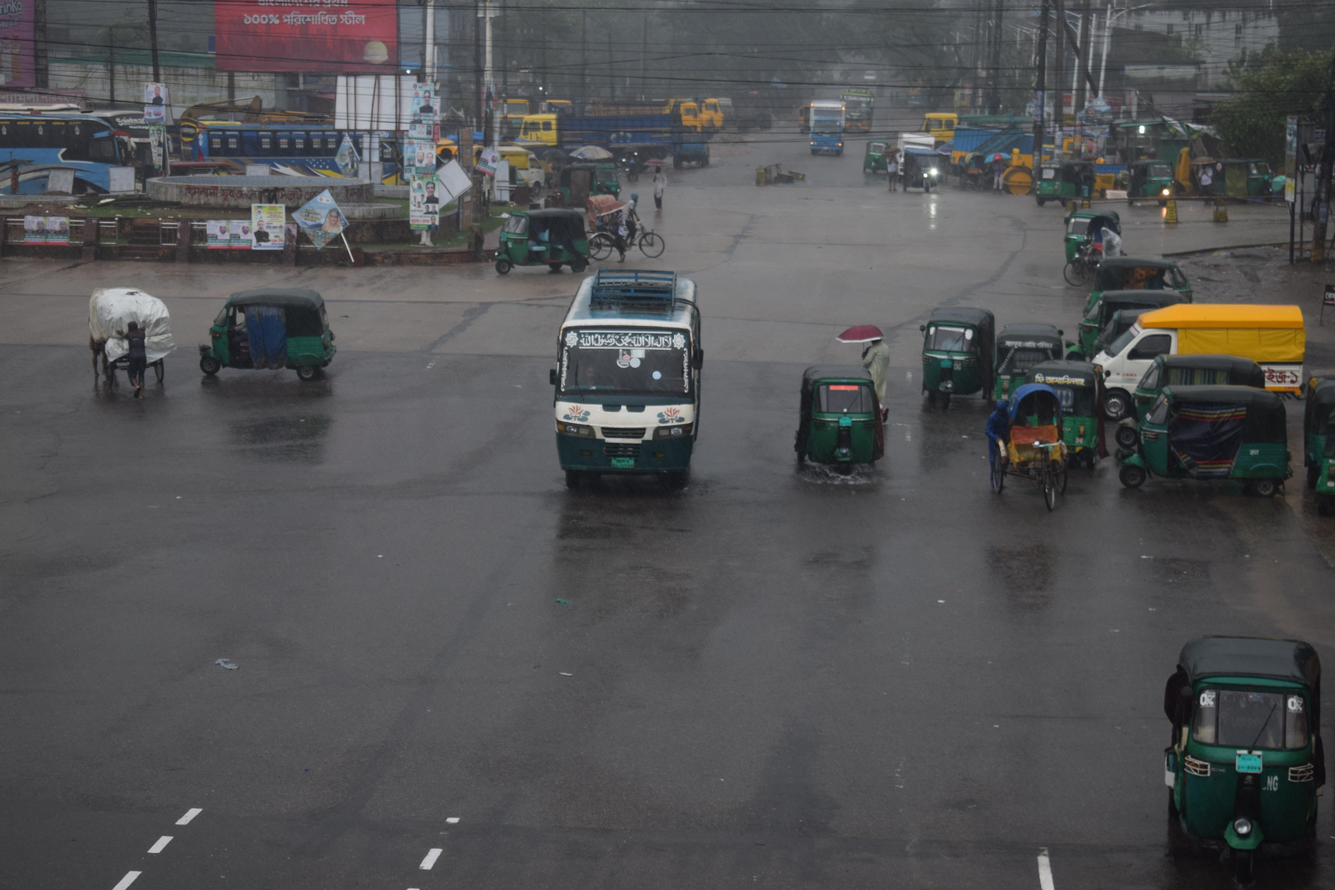Bus: (505, 236, 754, 559), (0, 85, 167, 235), (157, 108, 419, 202)
Car: (1076, 289, 1334, 377), (972, 366, 1079, 526), (585, 186, 670, 284), (891, 134, 953, 207)
Truck: (510, 86, 679, 163)
